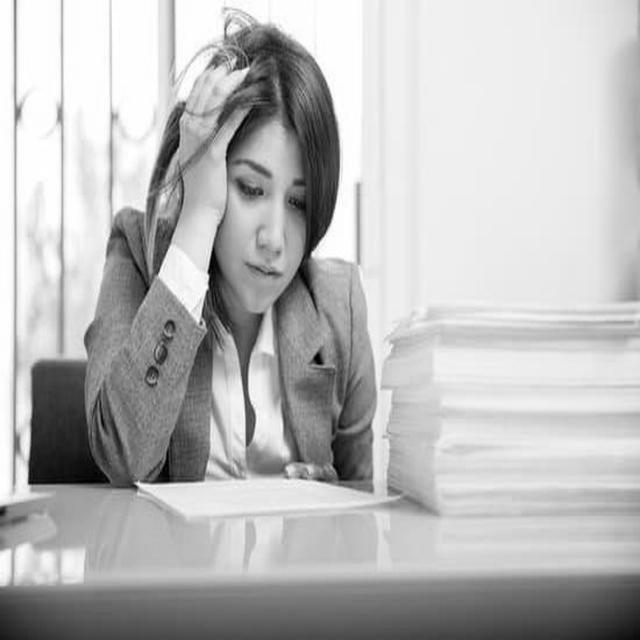Sadness: (229, 123, 309, 313)
